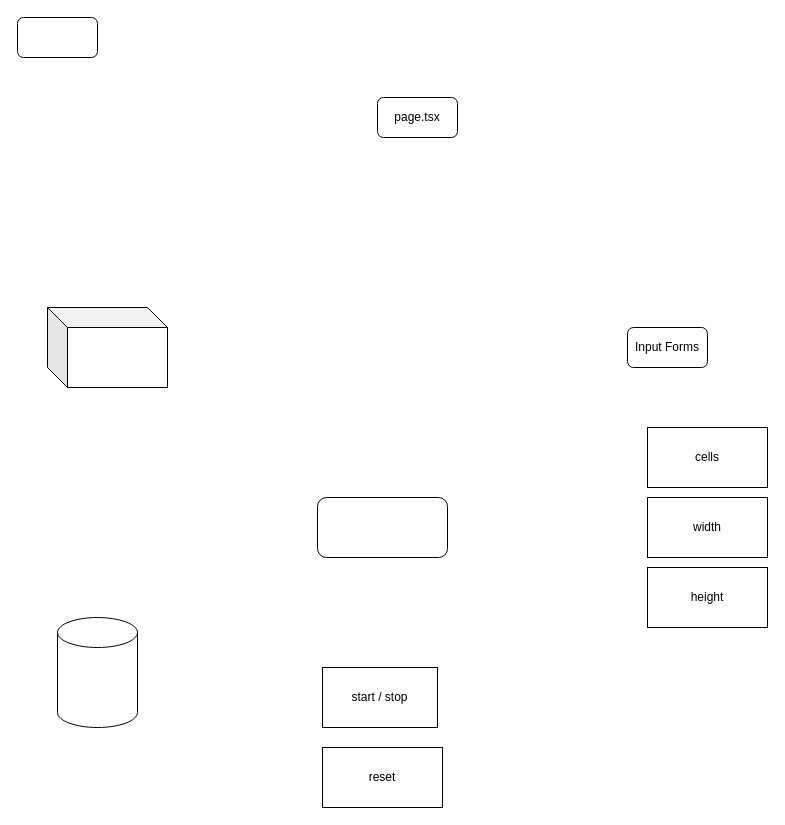
This 785x825 diagram has some shape labels left out. Each missing label, with the centre of its shape:
Buttons: [382,527]
conway css module: [97,672]
conway engine: [107,347]
